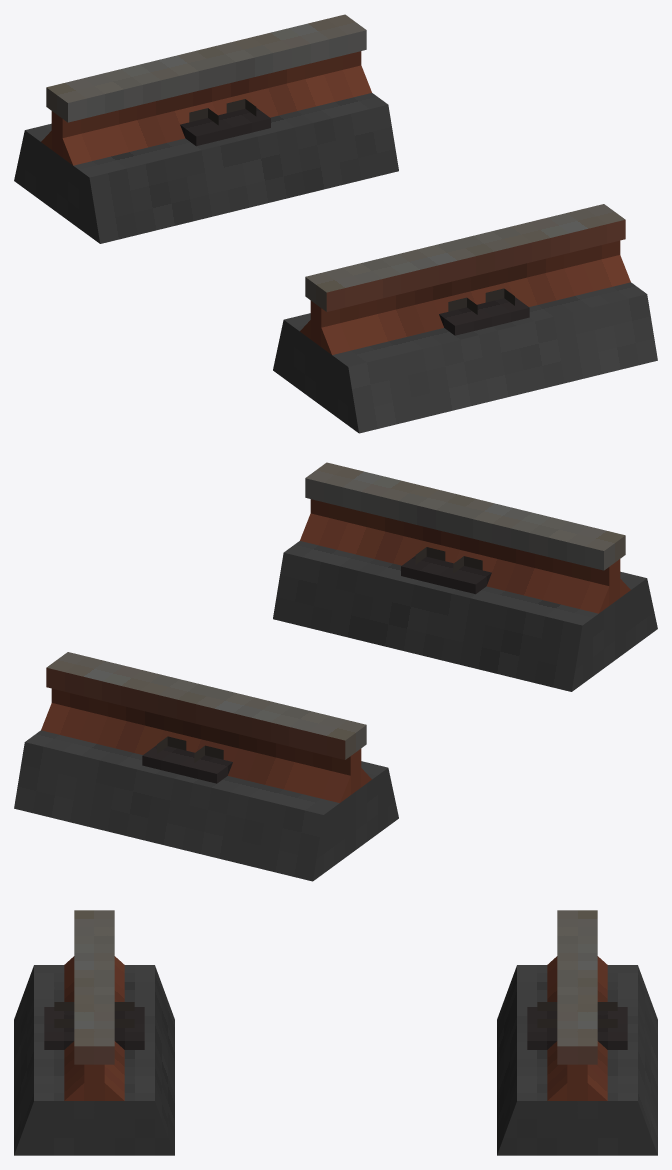
Rendered from texel_railsonly.obj.
The picture shows the model from 3 angles, top to bottom: view 1: azimuth 30°, elevation 25°; view 2: azimuth 150°, elevation 25°; view 3: azimuth 270°, elevation 25°; orthographic projection. The views are drawn at different scales.
Parts seen in each view (by area): view 1: RAIL_BASE_Plane, RAIL_LEFT_RAIL_LEFT_Cube_Cube.002, RAIL_RIGHT_RAIL_RIGHT_Cube_Cube.003; view 2: RAIL_BASE_Plane, RAIL_RIGHT_RAIL_RIGHT_Cube_Cube.003, RAIL_LEFT_RAIL_LEFT_Cube_Cube.002; view 3: RAIL_BASE_Plane, RAIL_LEFT_RAIL_LEFT_Cube_Cube.002, RAIL_RIGHT_RAIL_RIGHT_Cube_Cube.003.
Boxes of the visible parts, x1=… form: RAIL_BASE_Plane: x1=14, y1=93, x2=657, y2=433; RAIL_LEFT_RAIL_LEFT_Cube_Cube.002: x1=300, y1=204, x2=630, y2=354; RAIL_RIGHT_RAIL_RIGHT_Cube_Cube.003: x1=41, y1=14, x2=371, y2=165; RAIL_BASE_Plane: x1=14, y1=541, x2=657, y2=881; RAIL_RIGHT_RAIL_RIGHT_Cube_Cube.003: x1=41, y1=652, x2=371, y2=802; RAIL_LEFT_RAIL_LEFT_Cube_Cube.002: x1=300, y1=462, x2=630, y2=613; RAIL_BASE_Plane: x1=14, y1=965, x2=657, y2=1155; RAIL_LEFT_RAIL_LEFT_Cube_Cube.002: x1=64, y1=910, x2=124, y2=1100; RAIL_RIGHT_RAIL_RIGHT_Cube_Cube.003: x1=547, y1=910, x2=607, y2=1100.
Bounding box in the file's own units: 1 × 0.375 × 2.
2 materials, 2 textured.
